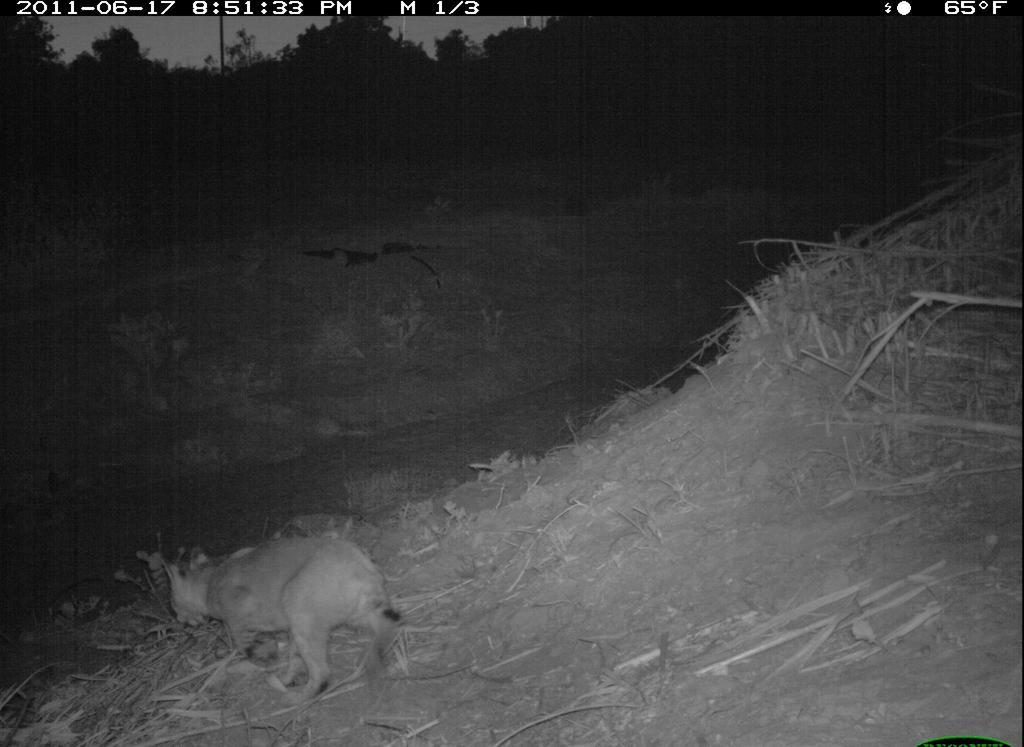bobcat: (158, 520, 424, 699)
